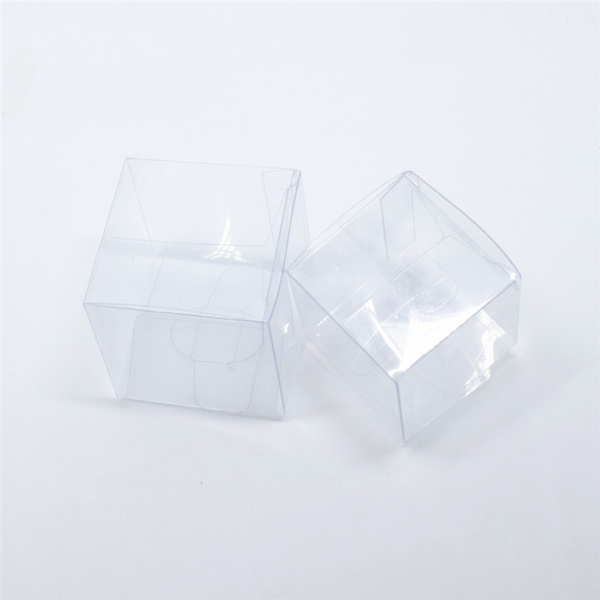PlasticBox: (281, 169, 527, 451)
